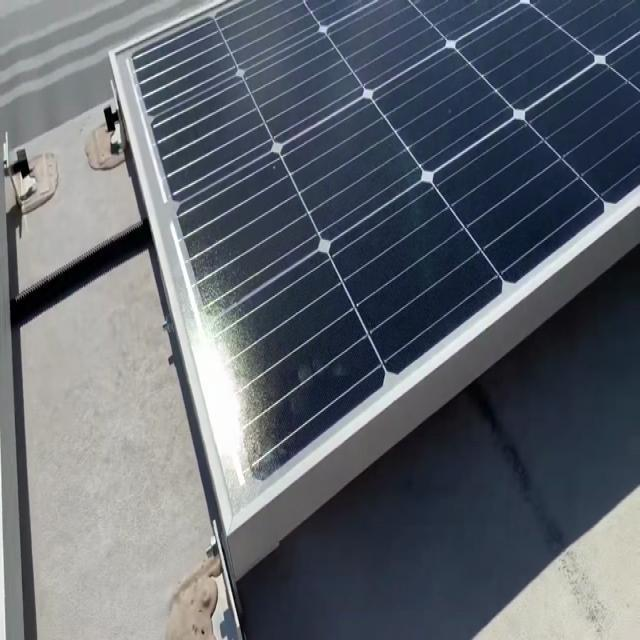Normal Solar Panel: (110, 0, 640, 542)
